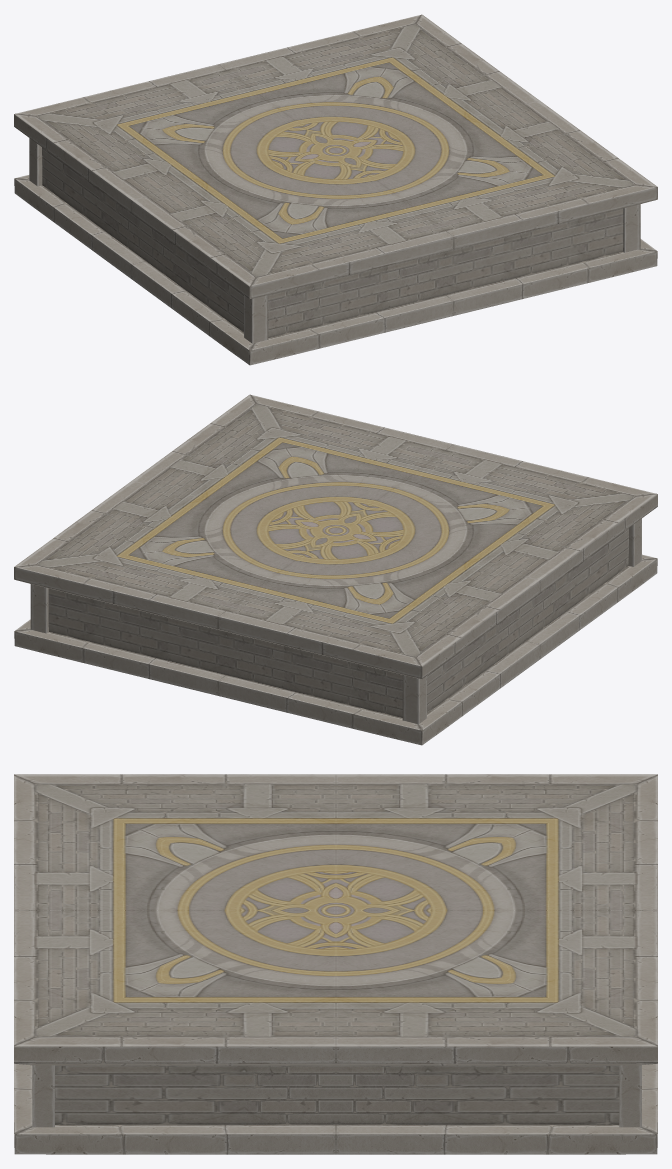
File: mod_zlc_jianzhu036_xy.FBX
3 views of the same model, one above another, from view 1: azimuth 30°, elevation 25°; view 2: azimuth 150°, elevation 25°; view 3: azimuth 270°, elevation 25° (orthographic). The views are drawn at different scales.
Visible parts, largest first — view 1: mod_zlc_jianzhu036_xy; view 2: mod_zlc_jianzhu036_xy; view 3: mod_zlc_jianzhu036_xy.
Boxes of the visible parts, box(x1,y1,x2,y2) form: mod_zlc_jianzhu036_xy: box(14, 14, 657, 365); mod_zlc_jianzhu036_xy: box(14, 394, 657, 745); mod_zlc_jianzhu036_xy: box(14, 774, 657, 1154).
Bounding box in the file's own units: 2092 × 387 × 2092.
